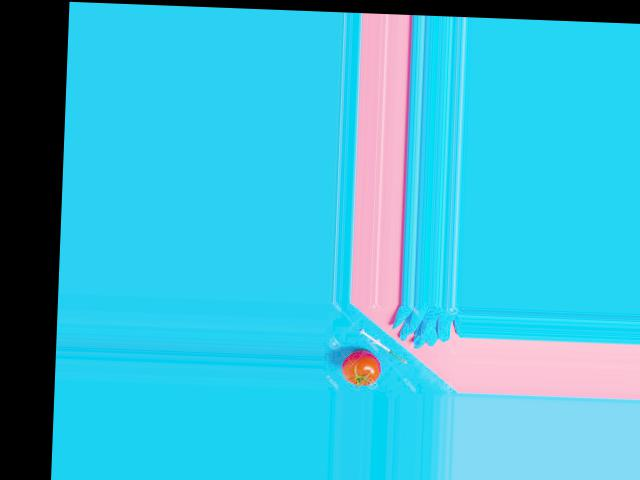tomato: (342, 349, 381, 385)
